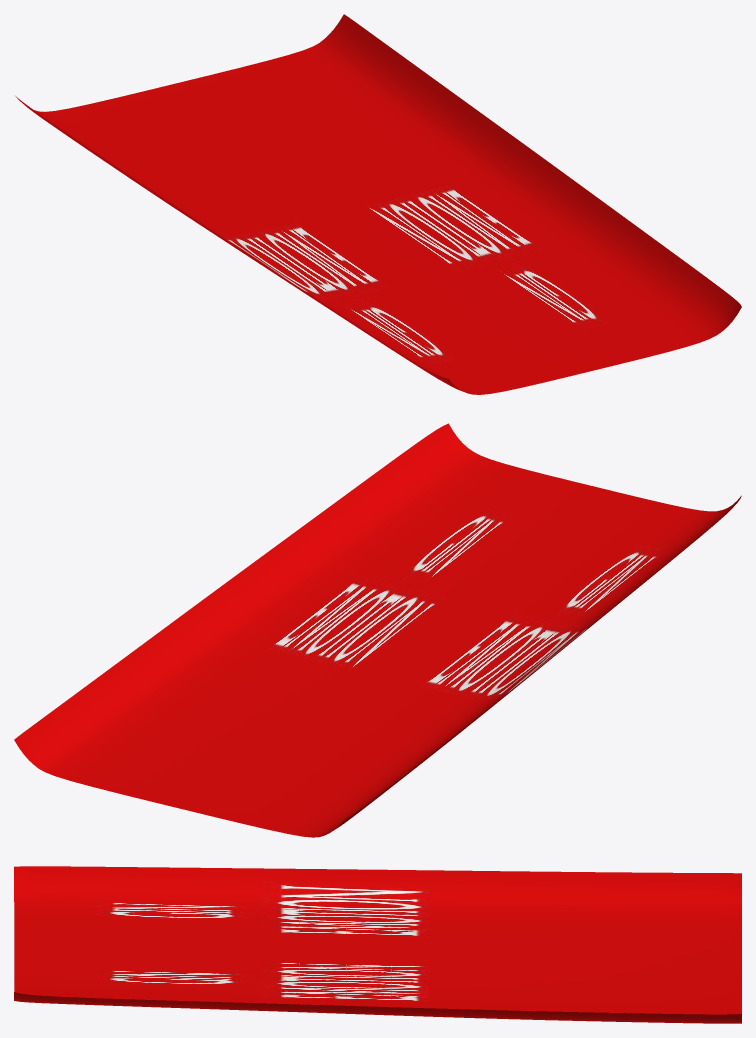
The picture shows the model from 3 angles, top to bottom: view 1: azimuth 30°, elevation 25°; view 2: azimuth 150°, elevation 25°; view 3: azimuth 270°, elevation 25°; orthographic projection. The views are drawn at different scales.
Size of the model in its own units: 0.2825 by 0.0363 by 0.6146.
1 material, 1 textured.
